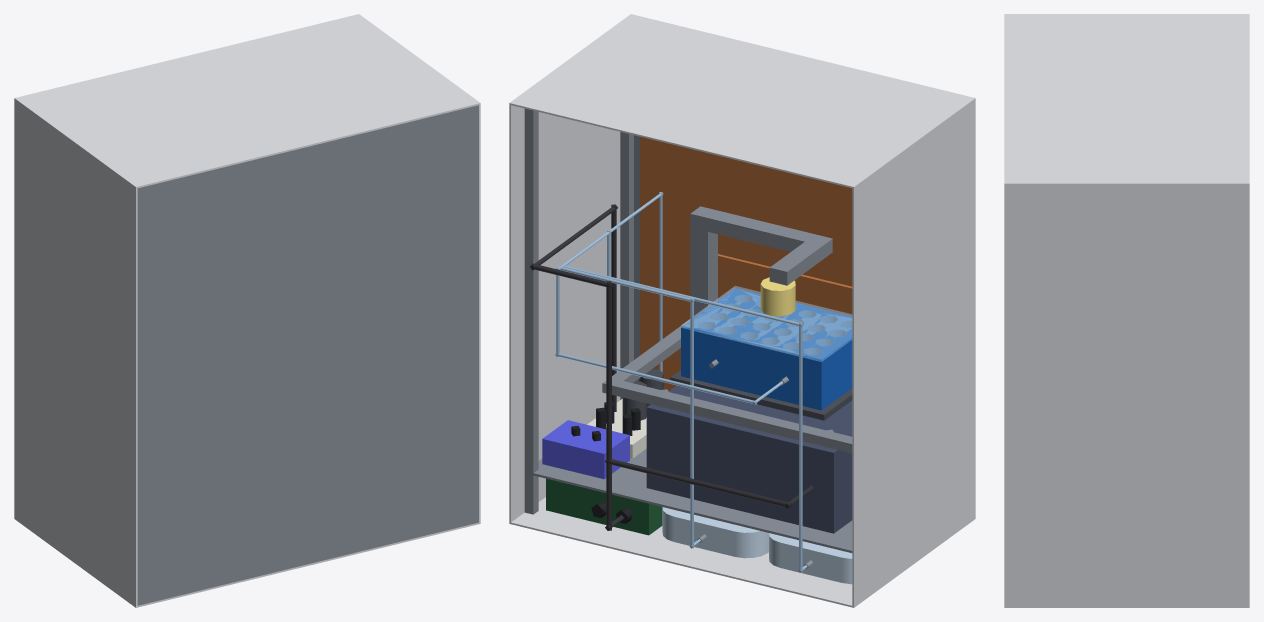
File: MOD-protein-crystals.glb
3 renders of one model, left to right at view 1: azimuth 30°, elevation 25°; view 2: azimuth 150°, elevation 25°; view 3: azimuth 270°, elevation 25°, orthographic.
Parts seen in each view (by area): view 1: housing__back_panel_bay_interface, housing__side_panel_L, housing__top_panel, housing__bottom_panel, housing__side_panel_R; view 2: housing__side_panel_L, housing__top_panel, housing__side_panel_R, thermal__cold_wall_to_the_bay_s_thermoelectric_block, imaging__microscope_base_optics_filter_cubes_camera, sample__cassette_24_wells_SBS_footprint_19_3_mm_pitch, housing__bottom_panel, sample__cassette_lid_sealed_and_gas_permeable, housing__corner_post_4, housing__shelf_1, imaging__XY_stage_frame_travel_96_5_x_57_9_mm_every_well_ove, sensor__sensor_pack (+18 smaller); view 3: housing__side_panel_R, housing__top_panel, housing__bottom_panel.
Boxes of the visible parts, x1,y1,x2,y2 form: housing__back_panel_bay_interface: (137,105,478,605); housing__side_panel_L: (14,100,137,605); housing__top_panel: (14,14,480,188); housing__bottom_panel: (14,517,480,607); housing__side_panel_R: (479,105,480,522); housing__side_panel_L: (852,100,975,605); housing__top_panel: (509,14,975,188); housing__side_panel_R: (509,105,620,522); thermal__cold_wall_to_the_bay_s_thermoelectric_block: (640,136,852,391); imaging__microscope_base_optics_filter_cubes_camera: (646,385,852,533); sample__cassette_24_wells_SBS_footprint_19_3_mm_pitch: (681,288,852,410); housing__bottom_panel: (509,497,975,607); sample__cassette_lid_sealed_and_gas_permeable: (681,286,852,361); housing__corner_post_4: (524,108,538,514); housing__shelf_1: (524,448,852,552); imaging__XY_stage_frame_travel_96_5_x_57_9_mm_every_well_ove: (602,319,852,453); sensor__sensor_pack: (542,420,629,479); housing__side_panel_R: (1004,185,1249,606); housing__top_panel: (1004,14,1249,185); housing__bottom_panel: (1004,606,1249,607).
Size of the model in its own units: 0.313 by 0.3652 by 0.1913.
